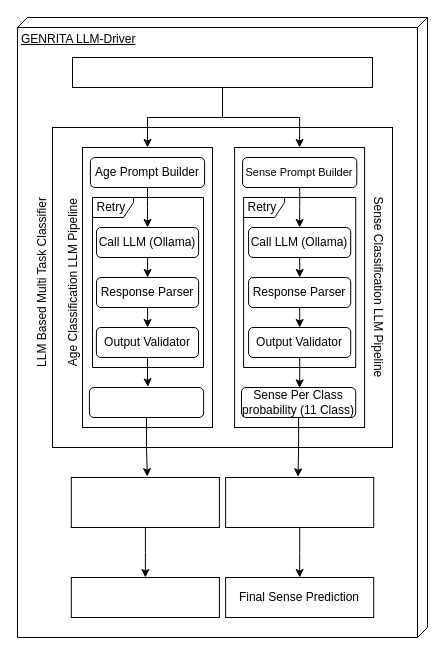
Image size: 445x655. Some labels were removed from this diagram. Each missing label, with the centre of its shape:
"Age Per Class probability (3 class)" belongs at (146,402).
"Final Age Prediction" belongs at (144,597).
"Get Best Age Prediction and filter probs (Filter, Argmax)" belongs at (144,502).
"Get Best Sense Prediction and filter probs (Filter, Argmax)" belongs at (299,502).
"Text Cleaner (DataProcessor)" belongs at (222,72).
